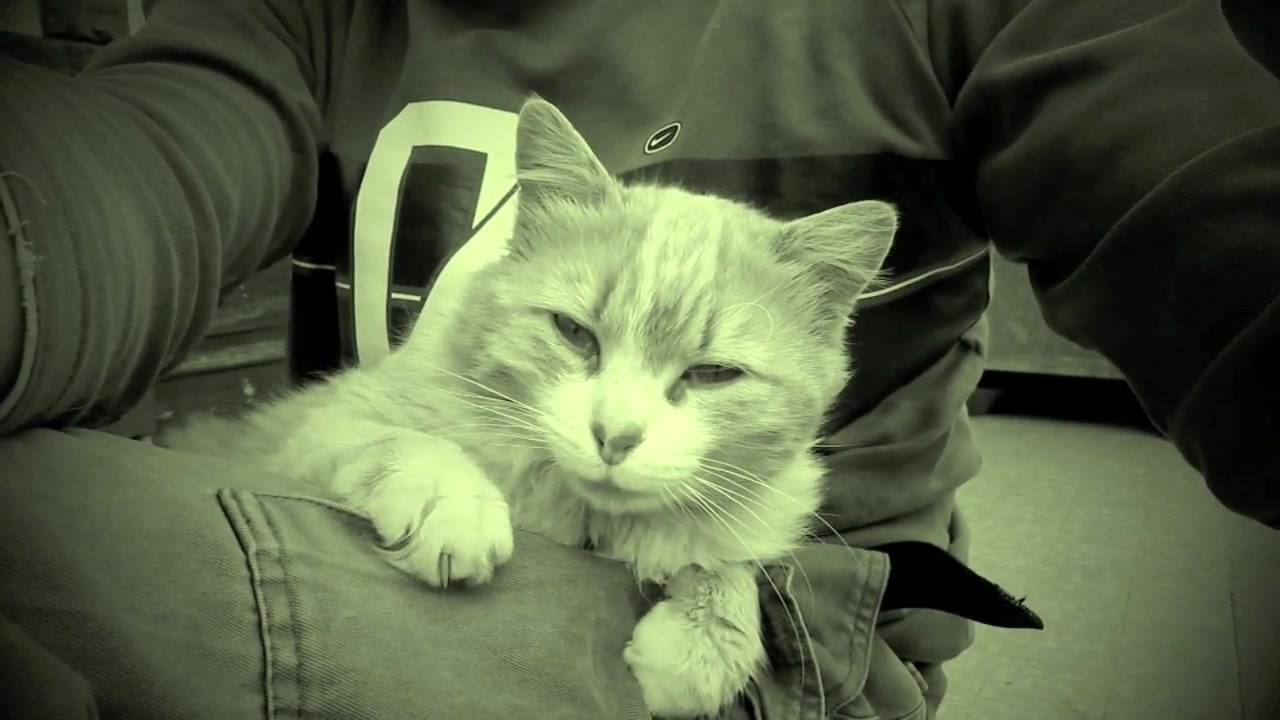cat: (154, 87, 903, 720)
